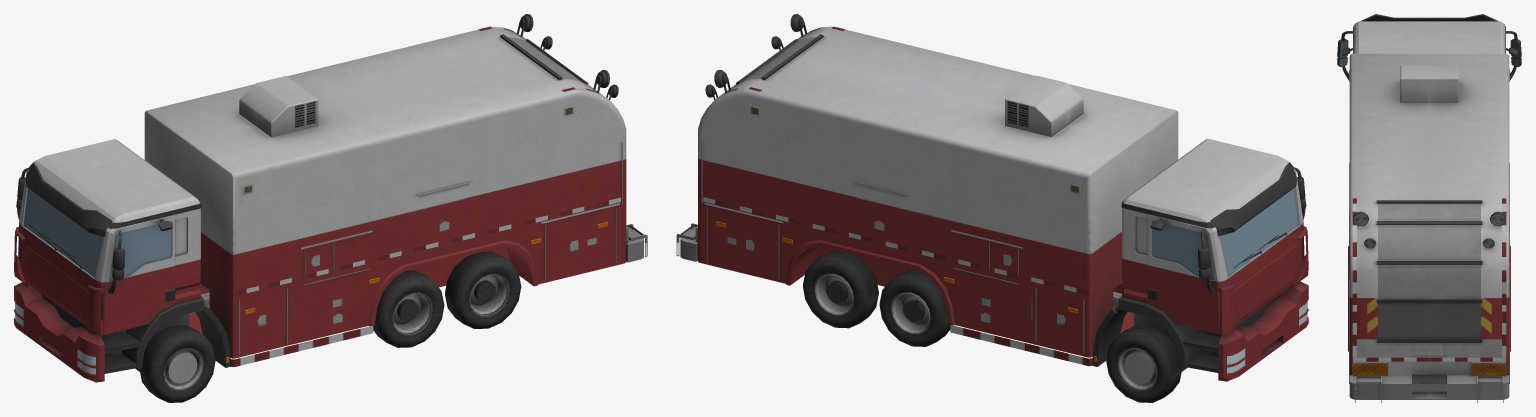
The model's file is index.gltf.
The picture shows the model from 3 angles, left to right: view 1: azimuth 30°, elevation 25°; view 2: azimuth 150°, elevation 25°; view 3: azimuth 270°, elevation 25°; orthographic projection. The views are drawn at different scales.
Visible parts, largest first — view 1: JianCeChe_001; view 2: JianCeChe_001; view 3: JianCeChe_001.
Part boxes in pixels (x1,y1,x2,y2): JianCeChe_001: (14, 14, 647, 402); JianCeChe_001: (676, 14, 1308, 402); JianCeChe_001: (1337, 14, 1521, 402).
Size of the model in its own units: 8.51 by 3.61 by 2.73.
Materials: 3 (3 with a texture image).
